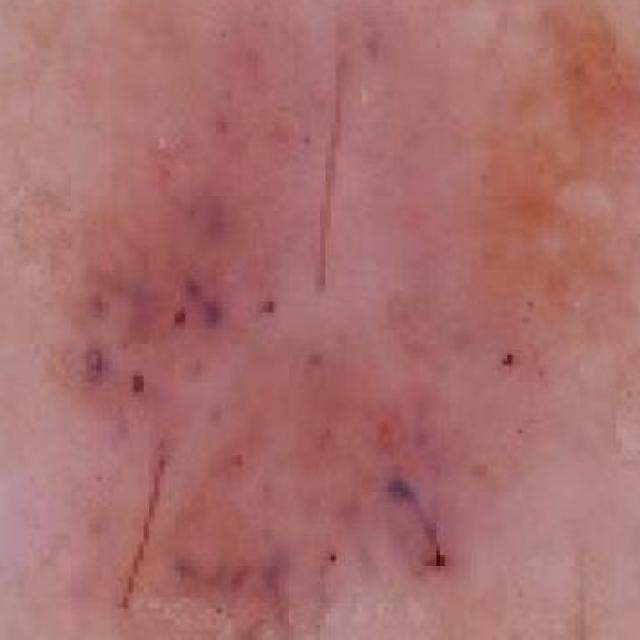BCC: (33, 0, 622, 640)
